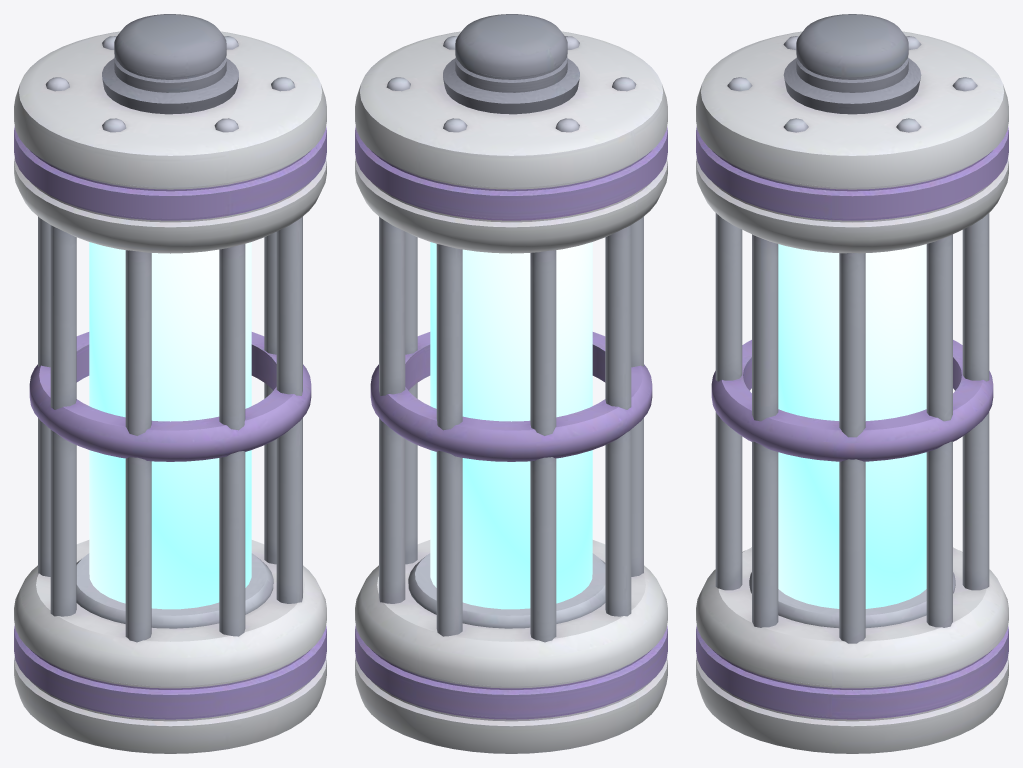
File: celula_energia.glb
The picture shows the model from 3 angles, left to right: view 1: azimuth 30°, elevation 25°; view 2: azimuth 150°, elevation 25°; view 3: azimuth 270°, elevation 25°; orthographic projection.
Visible parts, largest first — view 1: energy-cell_body; view 2: energy-cell_body; view 3: energy-cell_body.
Boxes of the visible parts, x1=… form: energy-cell_body: x1=14, y1=14, x2=326, y2=753; energy-cell_body: x1=355, y1=14, x2=667, y2=753; energy-cell_body: x1=696, y1=14, x2=1008, y2=753.
Bounding box in the file's own units: 0.2 × 0.4715 × 0.2.
Materials: 2 (1 with a texture image).
